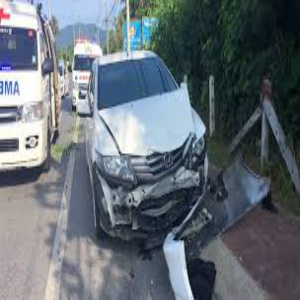bonnet: (109, 111, 172, 156)
bumper: (91, 181, 208, 240)
